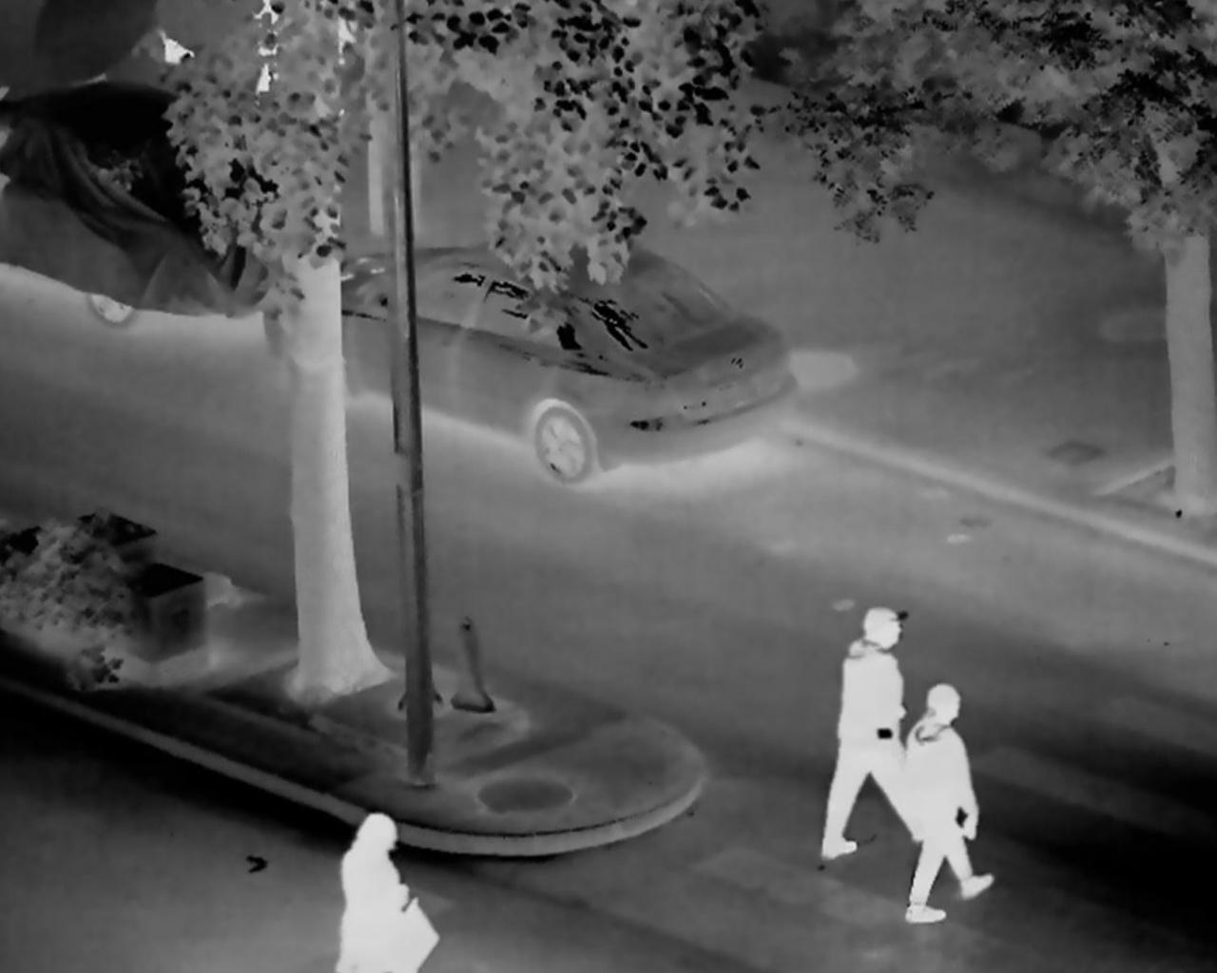person: (802, 588, 924, 874), (897, 667, 1017, 933), (337, 806, 443, 973)
